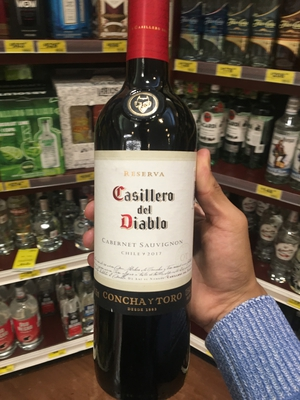casillero del diablo cabernet sauvignon: (85, 12, 205, 393)
